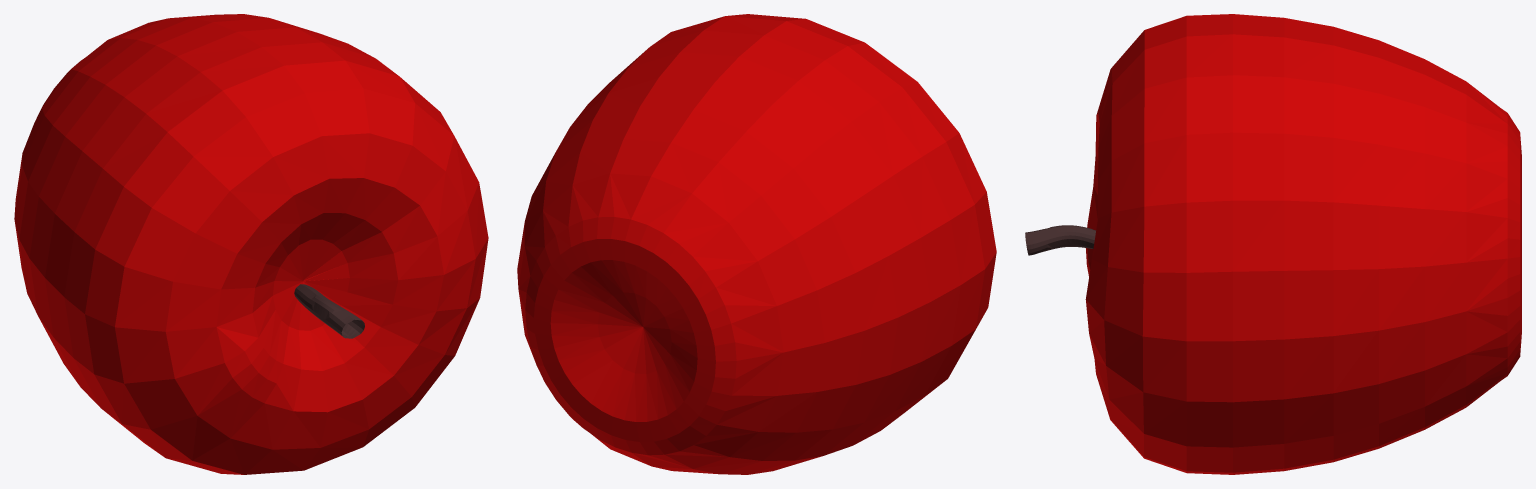
Rendered from apple.dae.
The picture shows the model from 3 angles, left to right: view 1: azimuth 30°, elevation 25°; view 2: azimuth 150°, elevation 25°; view 3: azimuth 270°, elevation 25°; orthographic projection. The views are drawn at different scales.
Visible parts, largest first — view 1: nurbsToPoly1, nurbsToPoly2; view 2: nurbsToPoly1; view 3: nurbsToPoly1, nurbsToPoly2.
Part boxes in pixels (x1=…): nurbsToPoly1: x1=14, y1=14, x2=488, y2=474; nurbsToPoly2: x1=294, y1=284, x2=364, y2=338; nurbsToPoly1: x1=517, y1=14, x2=996, y2=474; nurbsToPoly1: x1=1085, y1=14, x2=1521, y2=474; nurbsToPoly2: x1=1025, y1=225, x2=1096, y2=255.
Size of the model in its own units: 9.77 by 9.71 by 10.4.
